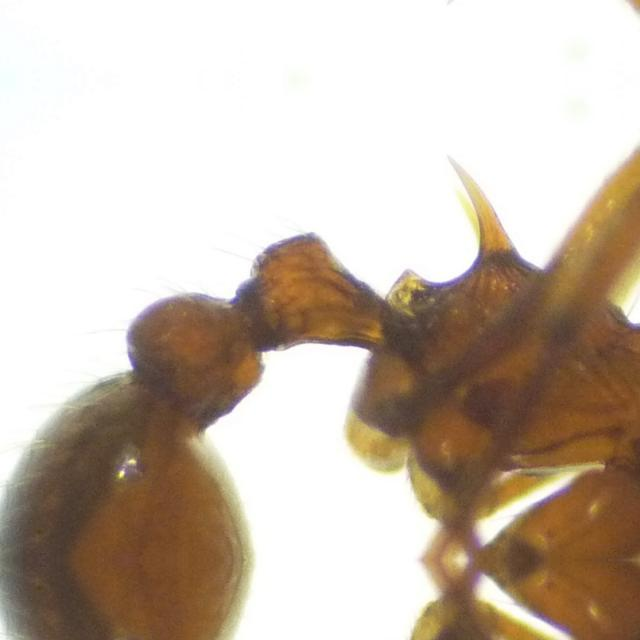Myrmica: (0, 80, 640, 560)
